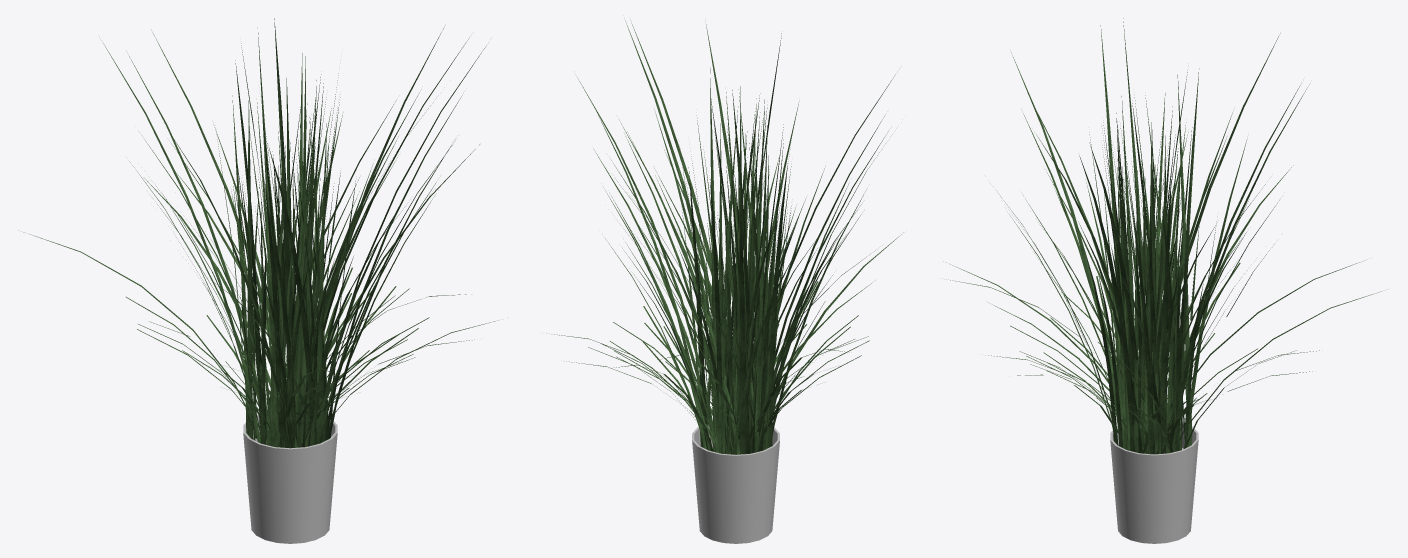
The model's file is Plant 2.FBX.
The picture shows the model from 3 angles, left to right: view 1: azimuth 30°, elevation 25°; view 2: azimuth 150°, elevation 25°; view 3: azimuth 270°, elevation 25°; orthographic projection. The views are drawn at different scales.
Visible parts, largest first — view 1: Plant 2; view 2: Plant 2; view 3: Plant 2.
Part boxes in pixels (x1=…): Plant 2: x1=23, y1=18, x2=498, y2=543; Plant 2: x1=546, y1=19, x2=903, y2=543; Plant 2: x1=943, y1=18, x2=1381, y2=543.
Size of the model in its own units: 79.16 by 107 by 89.03.
